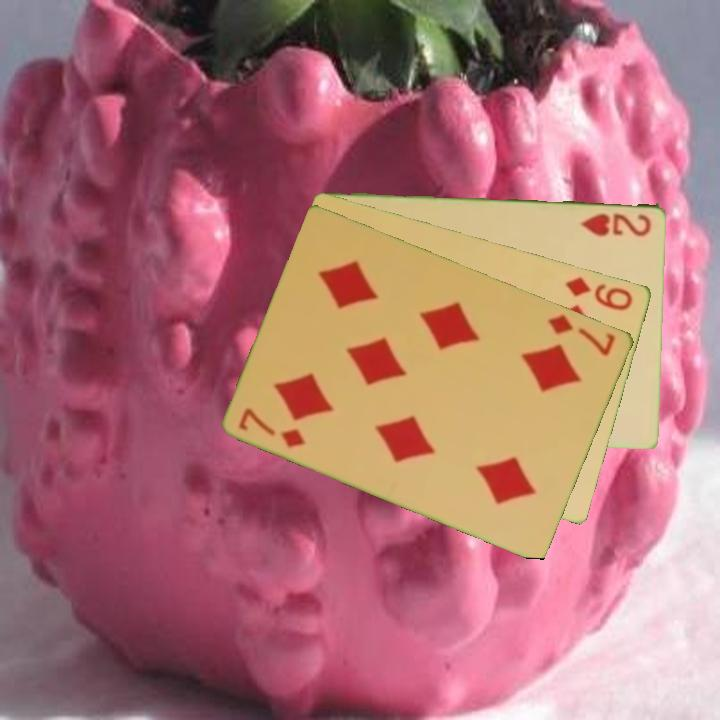2h: (577, 209, 654, 239)
7d: (544, 311, 619, 359), (235, 404, 309, 451)
9d: (563, 272, 636, 313)
